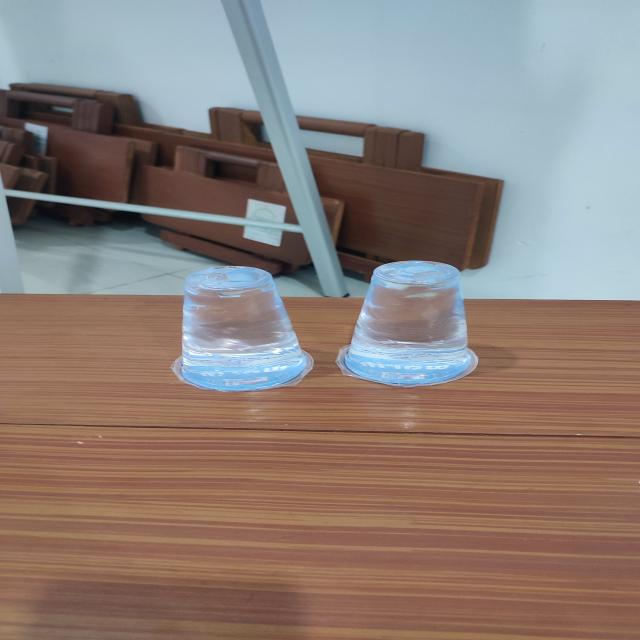air gelas: (333, 253, 495, 397), (166, 264, 319, 398)
